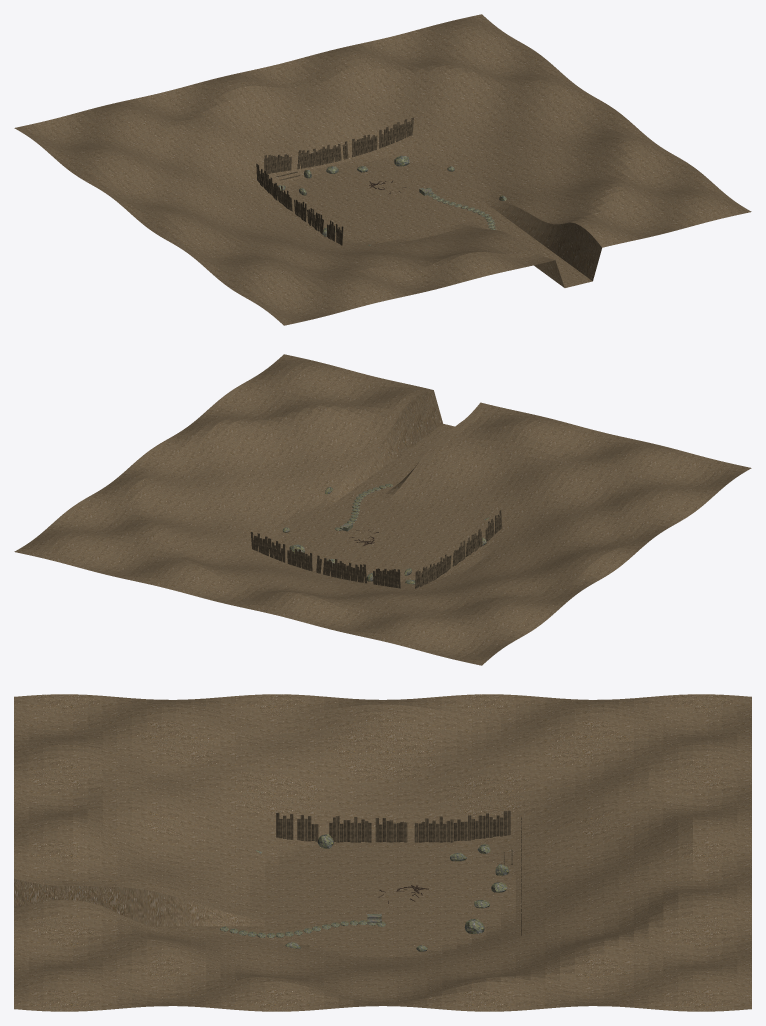
The model's file is garden.glb.
3 views of the same model, one above another, from view 1: azimuth 30°, elevation 25°; view 2: azimuth 150°, elevation 25°; view 3: azimuth 270°, elevation 25° (orthographic). The views are drawn at different scales.
Parts seen in each view (by area): view 1: Garden_earth, Broken garden fence, Stepping stone; view 2: Garden_earth, Broken garden fence, Stepping stone; view 3: Garden_earth, Broken garden fence, Stepping stone.
Part boxes in pixels (left/top/right/bottom): Garden_earth: left=14, top=14, right=751, bottom=325; Broken garden fence: left=256, top=117, right=413, bottom=245; Stepping stone: left=277, top=155, right=506, bottom=245; Garden_earth: left=14, top=354, right=751, bottom=665; Broken garden fence: left=250, top=510, right=502, bottom=588; Stepping stone: left=282, top=483, right=488, bottom=584; Garden_earth: left=14, top=694, right=751, bottom=1011; Broken garden fence: left=276, top=810, right=521, bottom=935; Stepping stone: left=220, top=834, right=509, bottom=951.
Size of the model in its own units: 56 by 4.68 by 56.
Materials: 4 (4 with a texture image).
